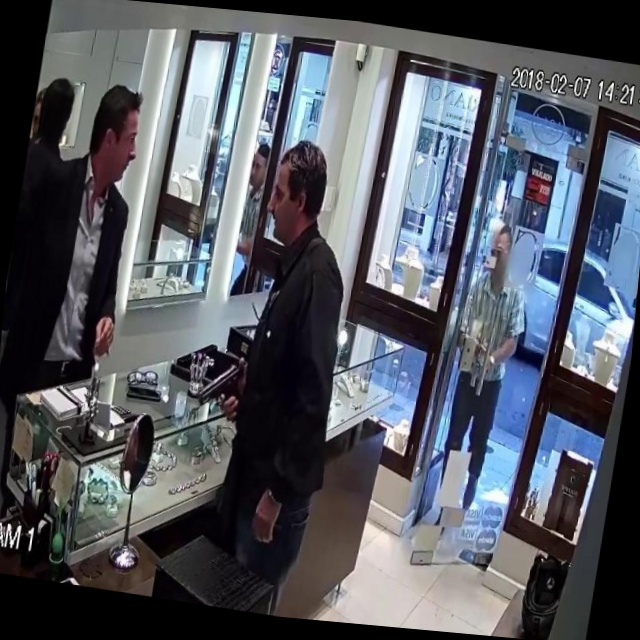gun: (180, 336, 256, 441)
